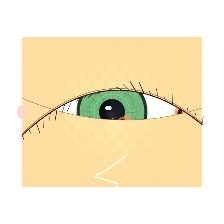foreign_body_visible: (100, 105, 146, 142)
